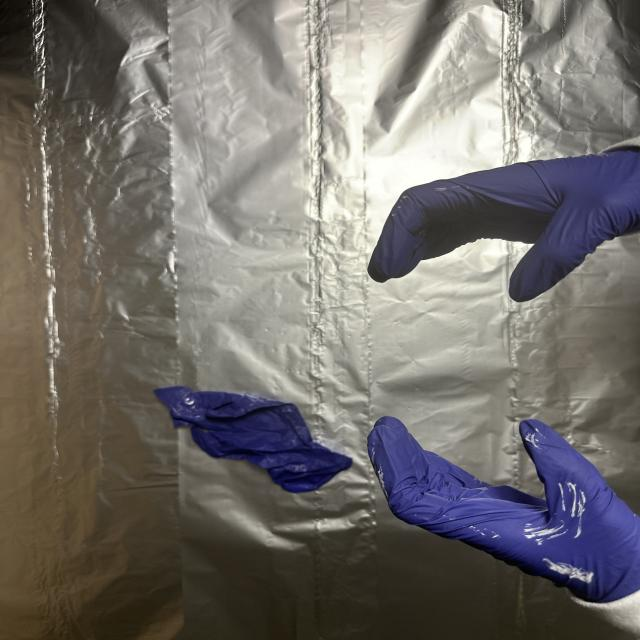gloves_contaminated: (368, 416, 640, 603), (368, 148, 640, 302)
